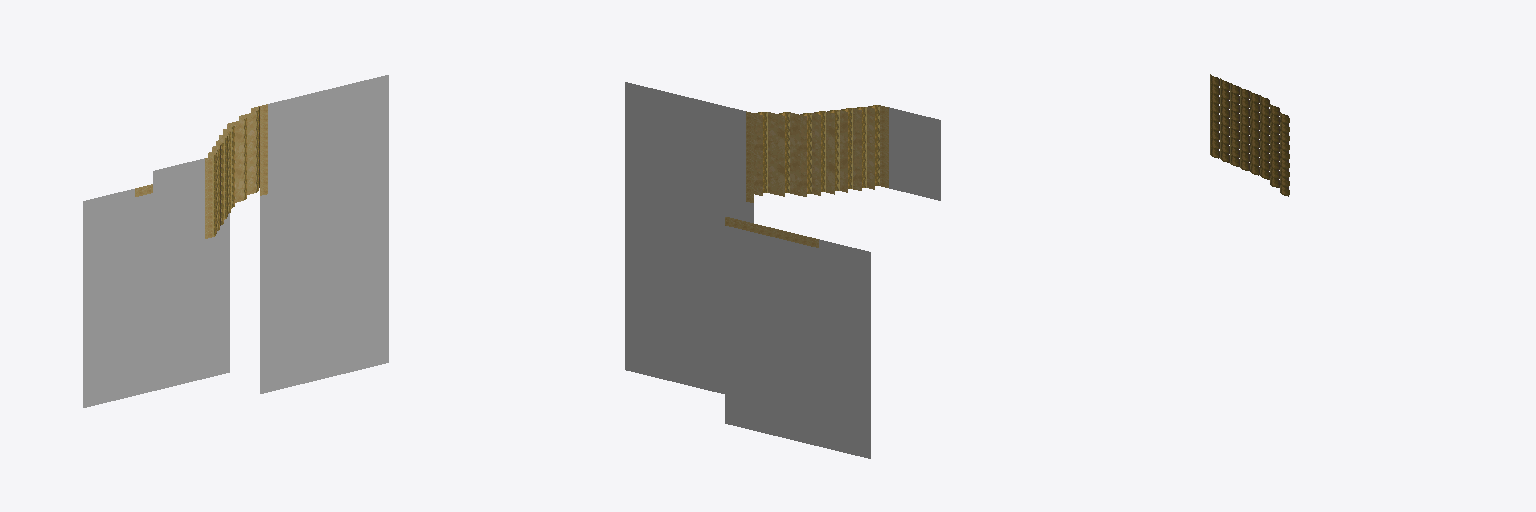
The picture shows the model from 3 angles: view 1: azimuth 30°, elevation 25°; view 2: azimuth 150°, elevation 25°; view 3: azimuth 270°, elevation 25°; orthographic projection.
Visible parts, largest first — view 1: map; view 2: map; view 3: map.
Boxes of the visible parts, x1,y1,x2,y2 form: map: [83, 75, 388, 407]; map: [625, 82, 940, 458]; map: [1210, 74, 1289, 196].
Bounding box in the file's own units: 32 × 32 × 14.
Materials: 5 (4 with a texture image).